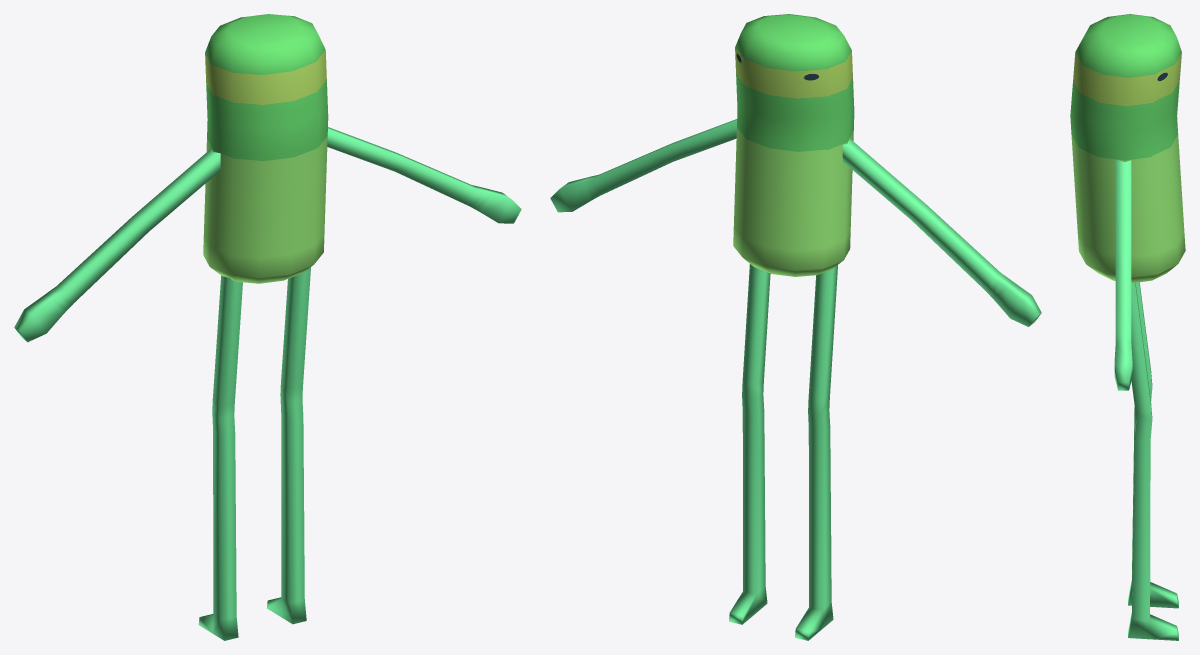
File: rig_char_13.fbx
3 renders of one model, left to right at view 1: azimuth 30°, elevation 25°; view 2: azimuth 150°, elevation 25°; view 3: azimuth 270°, elevation 25°, orthographic. The views are drawn at different scales.
Visible parts, largest first — view 1: mesh_char_13; view 2: mesh_char_13; view 3: mesh_char_13.
Boxes of the visible parts, x1=… form: mesh_char_13: x1=14, y1=14, x2=521, y2=640; mesh_char_13: x1=550, y1=14, x2=1041, y2=640; mesh_char_13: x1=1070, y1=14, x2=1185, y2=640.
Size of the model in its own units: 13.67 by 15.74 by 2.78.
